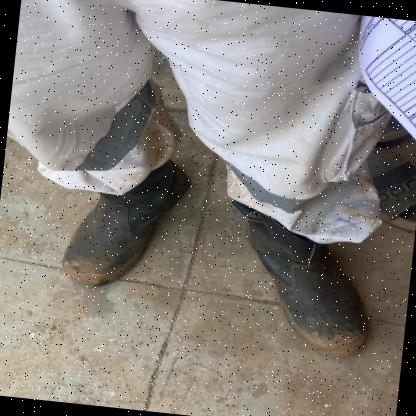bota: (215, 192, 387, 362), (53, 144, 201, 296)
